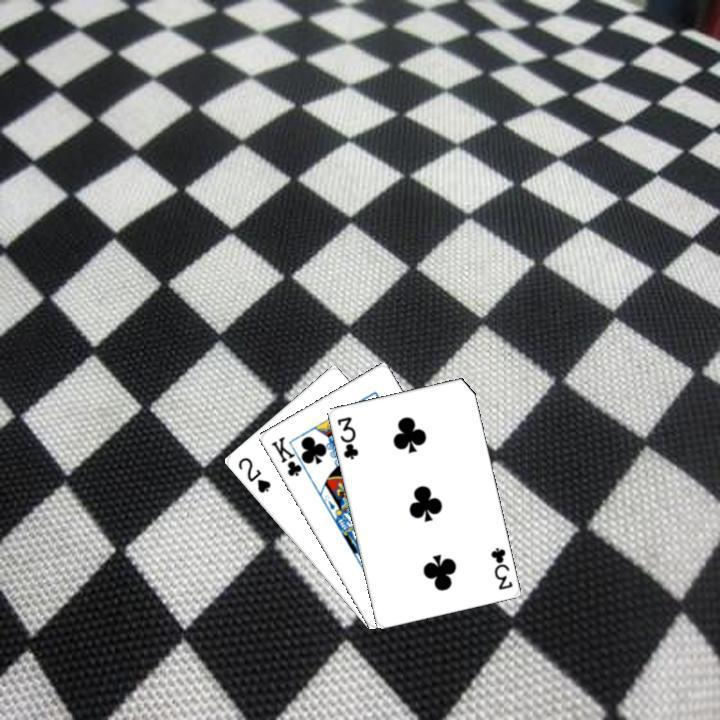2: (233, 453, 272, 495)
3: (486, 542, 514, 592), (332, 412, 360, 461)
K: (266, 432, 311, 478)
